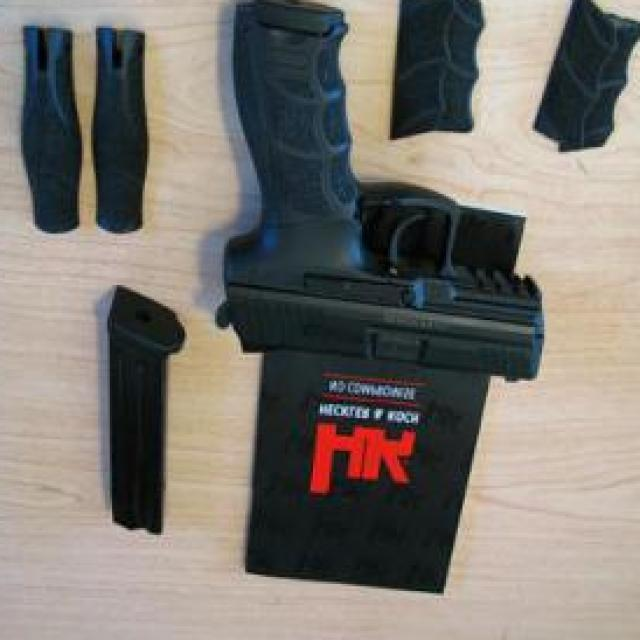pistol: (208, 5, 546, 390)
